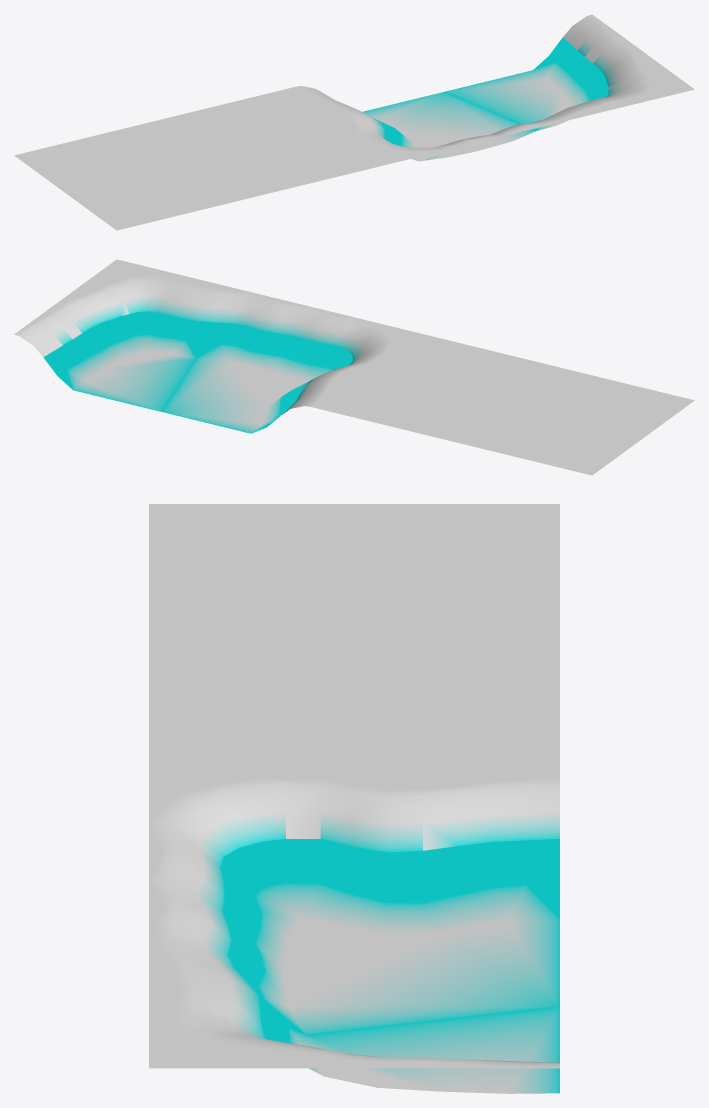
The model's file is Side-forest-water_end_01.glb.
The picture shows the model from 3 angles, top to bottom: view 1: azimuth 30°, elevation 25°; view 2: azimuth 150°, elevation 25°; view 3: azimuth 270°, elevation 25°; orthographic projection. The views are drawn at different scales.
Visible parts, largest first — view 1: Side-forest-water_end_01; view 2: Side-forest-water_end_01; view 3: Side-forest-water_end_01.
Part boxes in pixels (x1,y1,x2,y2): Side-forest-water_end_01: (14, 14, 694, 230); Side-forest-water_end_01: (14, 259, 694, 475); Side-forest-water_end_01: (149, 504, 559, 1093).
Bounding box in the file's own units: 58.5 × 4 × 18.
